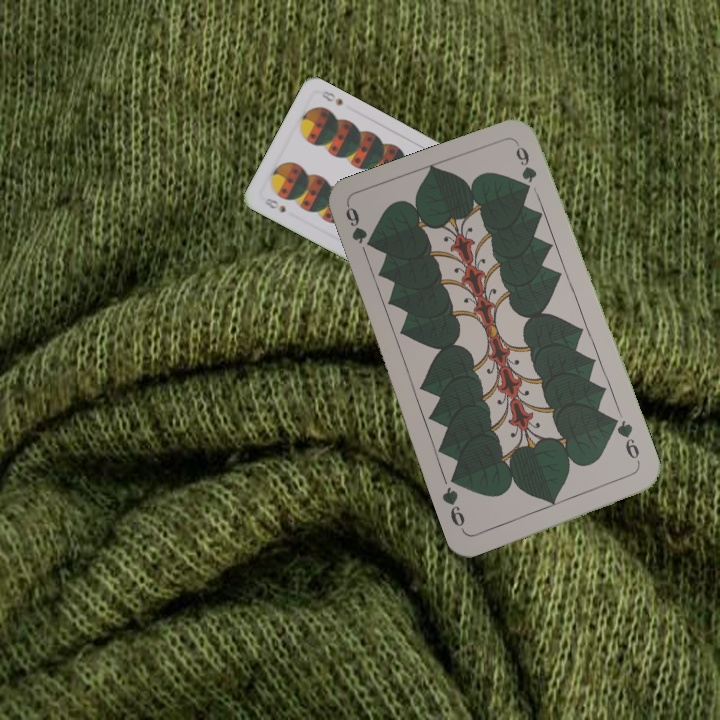G9: (610, 414, 644, 470), (341, 203, 376, 252)
S8: (260, 194, 288, 215)
